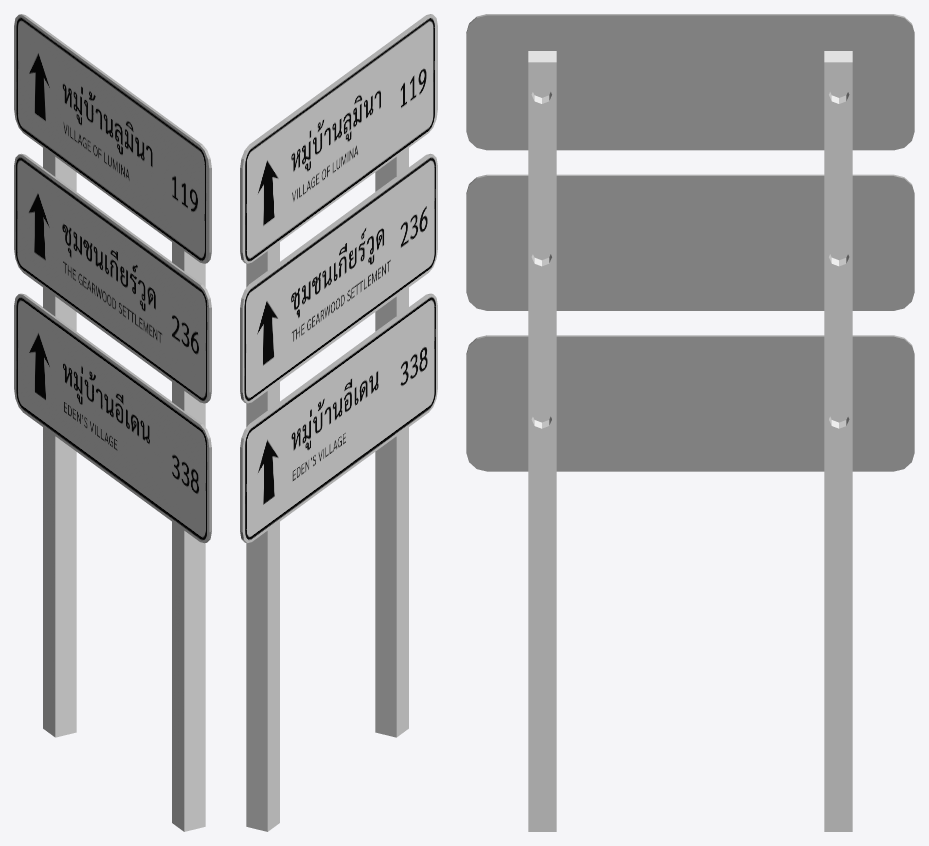
The model's file is kmToVillageSign1.glb.
3 renders of one model, left to right at view 1: azimuth 30°, elevation 25°; view 2: azimuth 150°, elevation 25°; view 3: azimuth 270°, elevation 25°, orthographic. The views are drawn at different scales.
Visible parts, largest first — view 1: Plane, Cube; view 2: Plane, Cube; view 3: Plane, Cube.
Boxes of the visible parts, x1,y1,x2,y2 form: Plane: (14,14,211,543); Cube: (43,148,205,831); Plane: (240,14,437,543); Cube: (246,148,408,831); Plane: (466,14,914,471); Cube: (528,51,852,831).
Size of the model in its own units: 0.3934 by 11.28 by 5.7.
2 materials, 1 textured.
